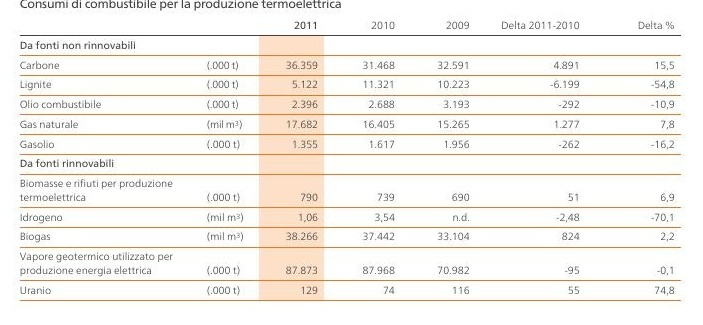table: (0, 0, 703, 325)
